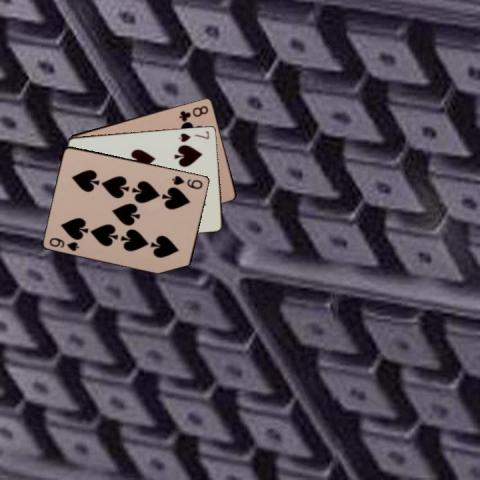7s: (176, 128, 211, 143)
8c: (176, 103, 210, 122)
9s: (169, 172, 204, 191), (46, 235, 80, 253)
